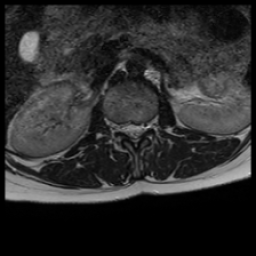CCS_normal: (130, 115, 137, 151)
LFS_normal: (145, 112, 153, 136)
LLS_normal: (137, 113, 146, 143)
RFS_normal: (114, 113, 122, 138)
RLS_normal: (122, 113, 130, 142)
